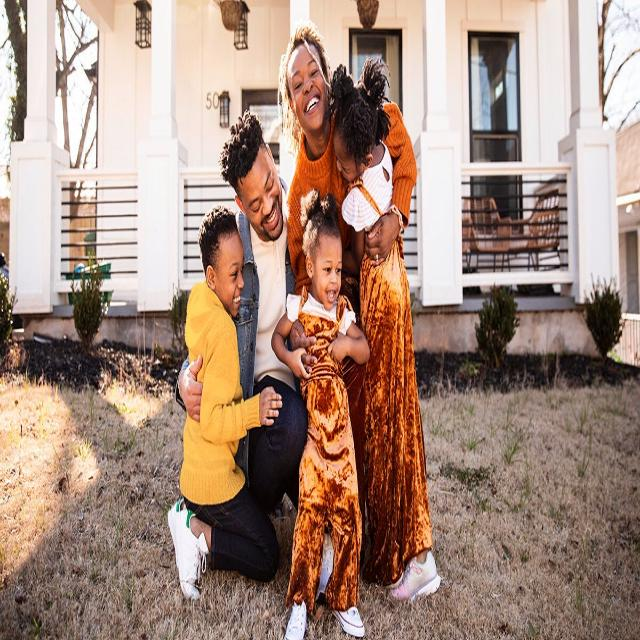adult: (175, 112, 317, 557), (278, 32, 419, 300)
child: (331, 62, 441, 599), (165, 205, 282, 599), (271, 197, 369, 640)
